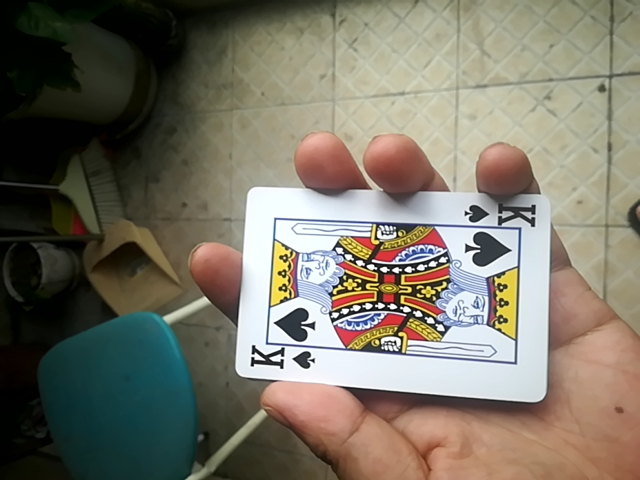ht k: (225, 181, 556, 403)
